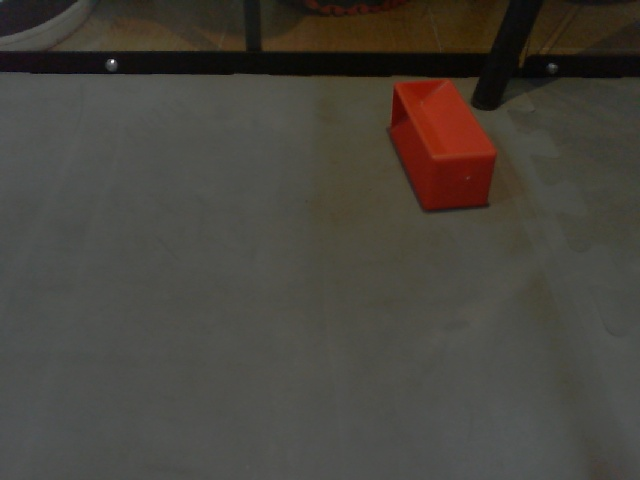RedSample: (391, 74, 496, 210)
